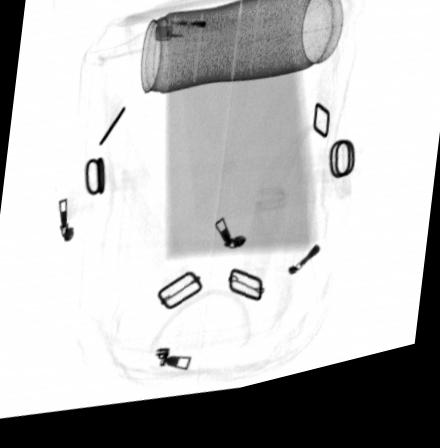Lighter: (155, 21, 241, 53)
